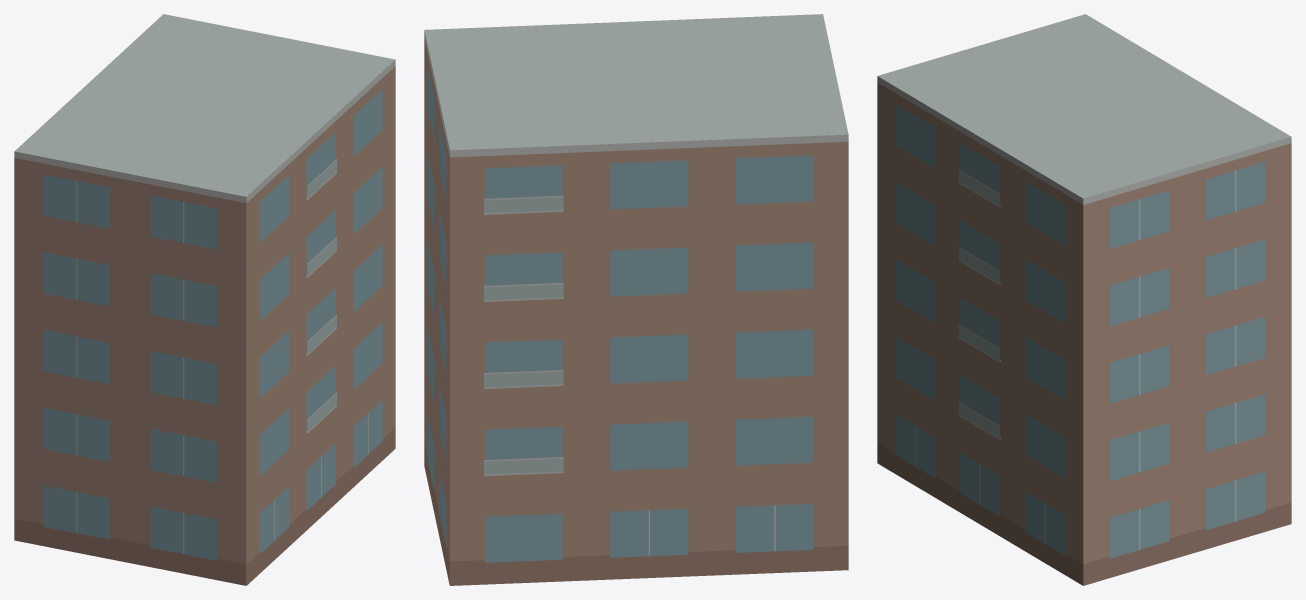
File: survey-upis-32940637.glb
3 renders of one model, left to right at view 1: azimuth 30°, elevation 25°; view 2: azimuth 150°, elevation 25°; view 3: azimuth 270°, elevation 25°, orthographic. The views are drawn at different scales.
Visible parts, largest first — view 1: survey-upis-32940637.tmp; view 2: survey-upis-32940637.tmp; view 3: survey-upis-32940637.tmp.
Part boxes in pixels (x1=…): survey-upis-32940637.tmp: x1=14, y1=14, x2=395, y2=585; survey-upis-32940637.tmp: x1=424, y1=14, x2=848, y2=585; survey-upis-32940637.tmp: x1=877, y1=14, x2=1291, y2=585.
Size of the model in its own units: 15.25 by 14.9 by 14.46.
